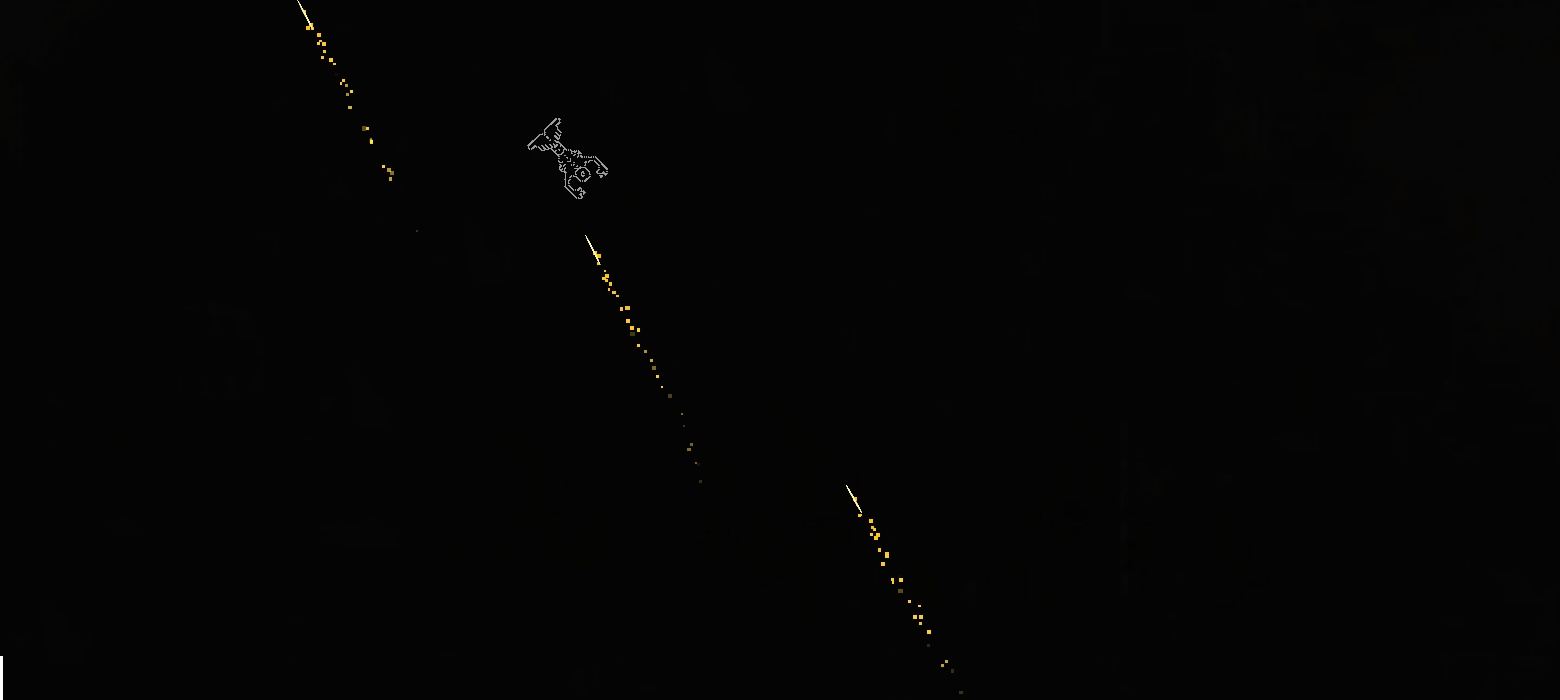enemy: (527, 117, 608, 199)
